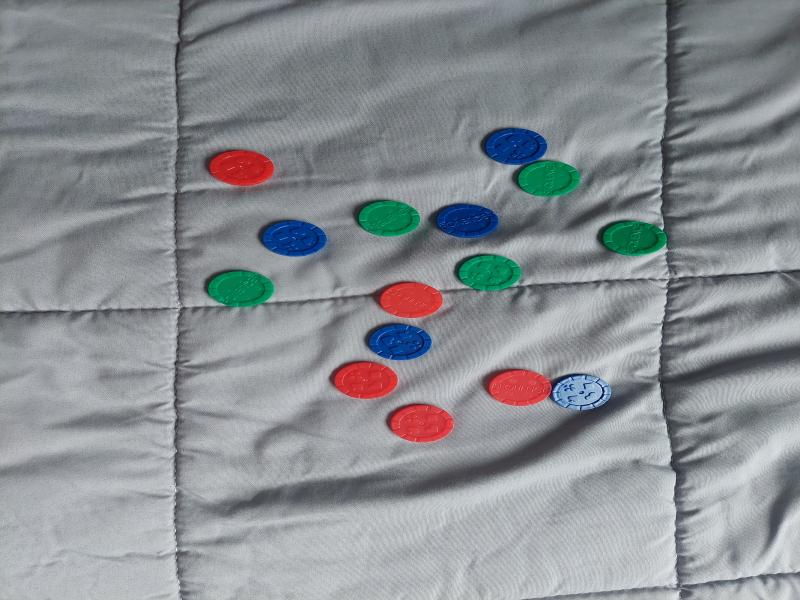Blue_Token: (466, 109, 563, 169), (238, 210, 336, 265), (544, 354, 626, 418), (427, 191, 504, 252), (360, 321, 436, 358)
Green_Token: (178, 268, 299, 321), (505, 152, 593, 205), (445, 248, 534, 298), (593, 209, 674, 259), (355, 196, 421, 237)
Red_Token: (475, 349, 549, 422), (200, 140, 284, 196), (358, 277, 456, 321), (381, 403, 467, 446), (334, 354, 407, 402)
